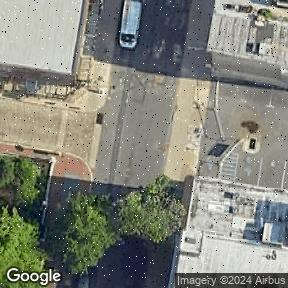vegetation: (49, 172, 194, 278), (0, 207, 44, 288), (0, 156, 40, 202)
